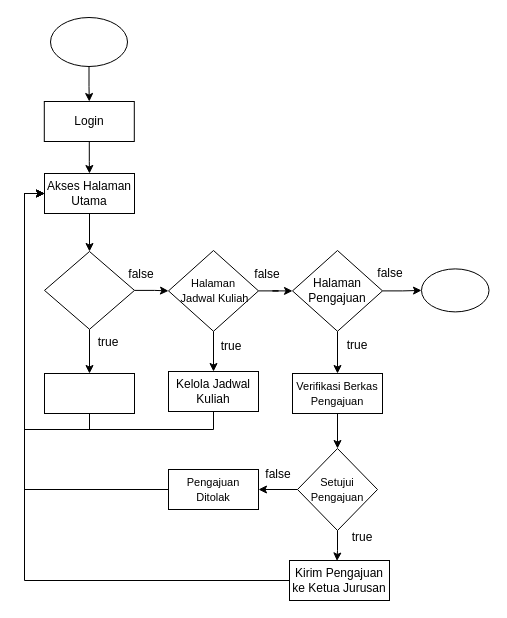
Image size: 507x618. Some labels were removed from this diagram. The centre of each missing label's shape, as x and y in pixels:
"End" belongs at [454,290].
"Halaman Ruangan" belongs at [89,289].
"Kelola Data Ruangan" belongs at [89,393].
"start" belongs at [89,41].
